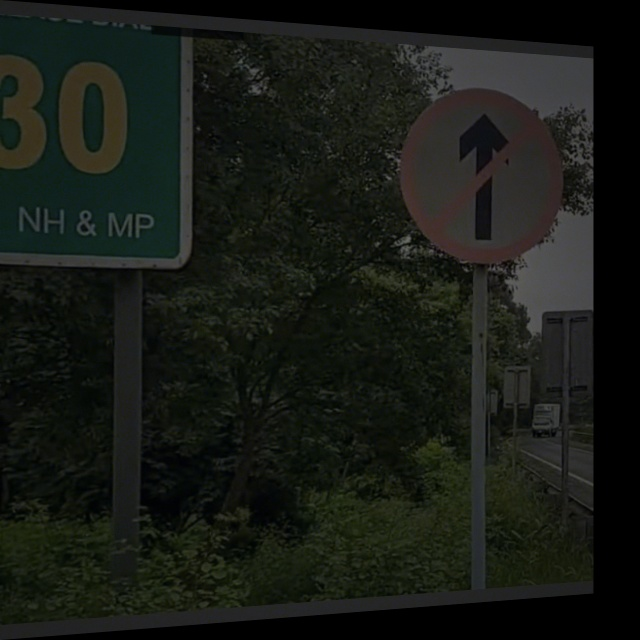No_Entry: (401, 81, 564, 261)
